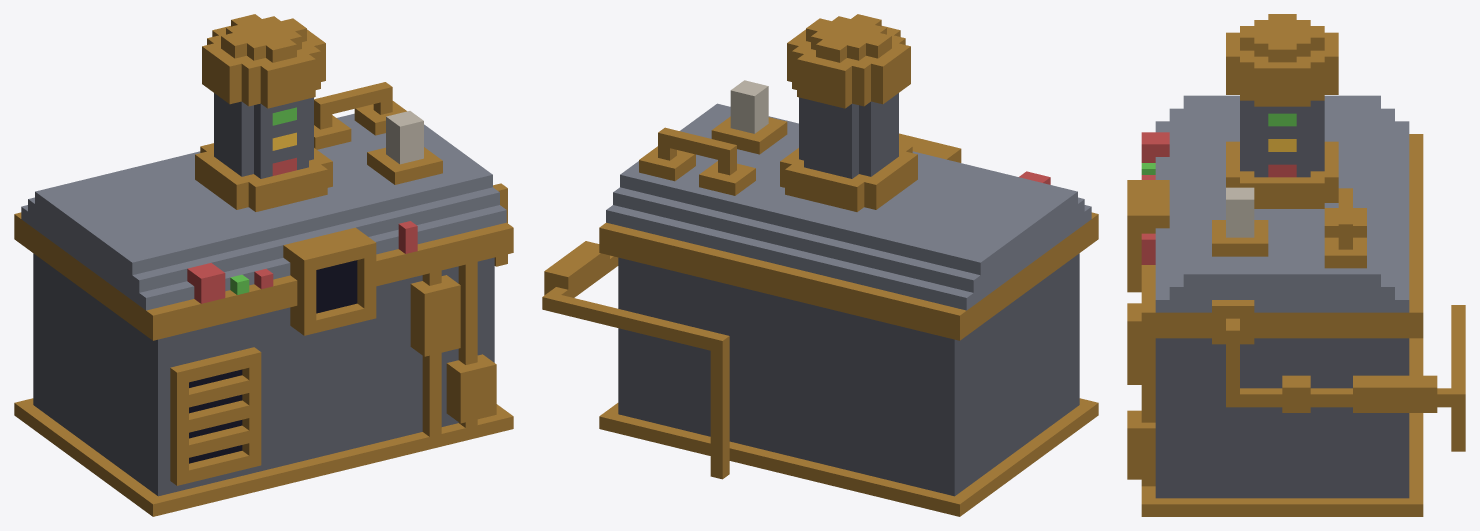
File: GGJ thing 04.obj
The picture shows the model from 3 angles, left to right: view 1: azimuth 30°, elevation 25°; view 2: azimuth 150°, elevation 25°; view 3: azimuth 270°, elevation 25°; orthographic projection.
Bounding box in the file's own units: 3.4 × 3.1 × 2.4.
1 material, 1 textured.
